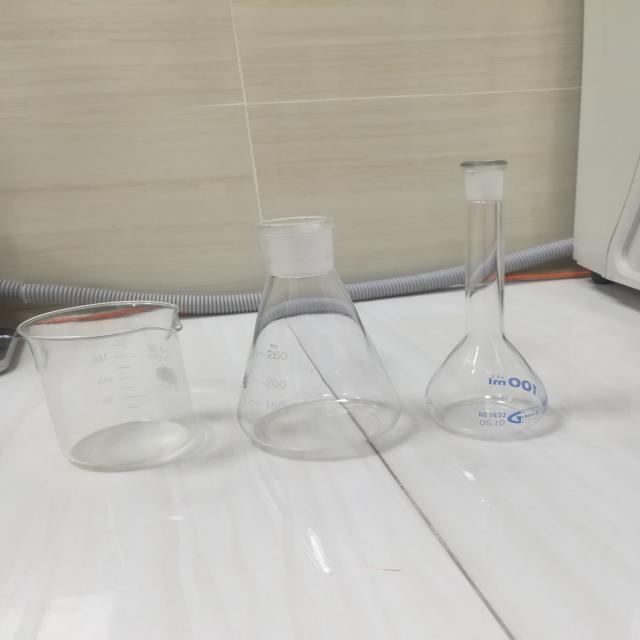Beaker: (0, 273, 222, 494)
Conical_Flask: (228, 189, 414, 479)
Volumetric_Flask: (432, 118, 572, 451)
